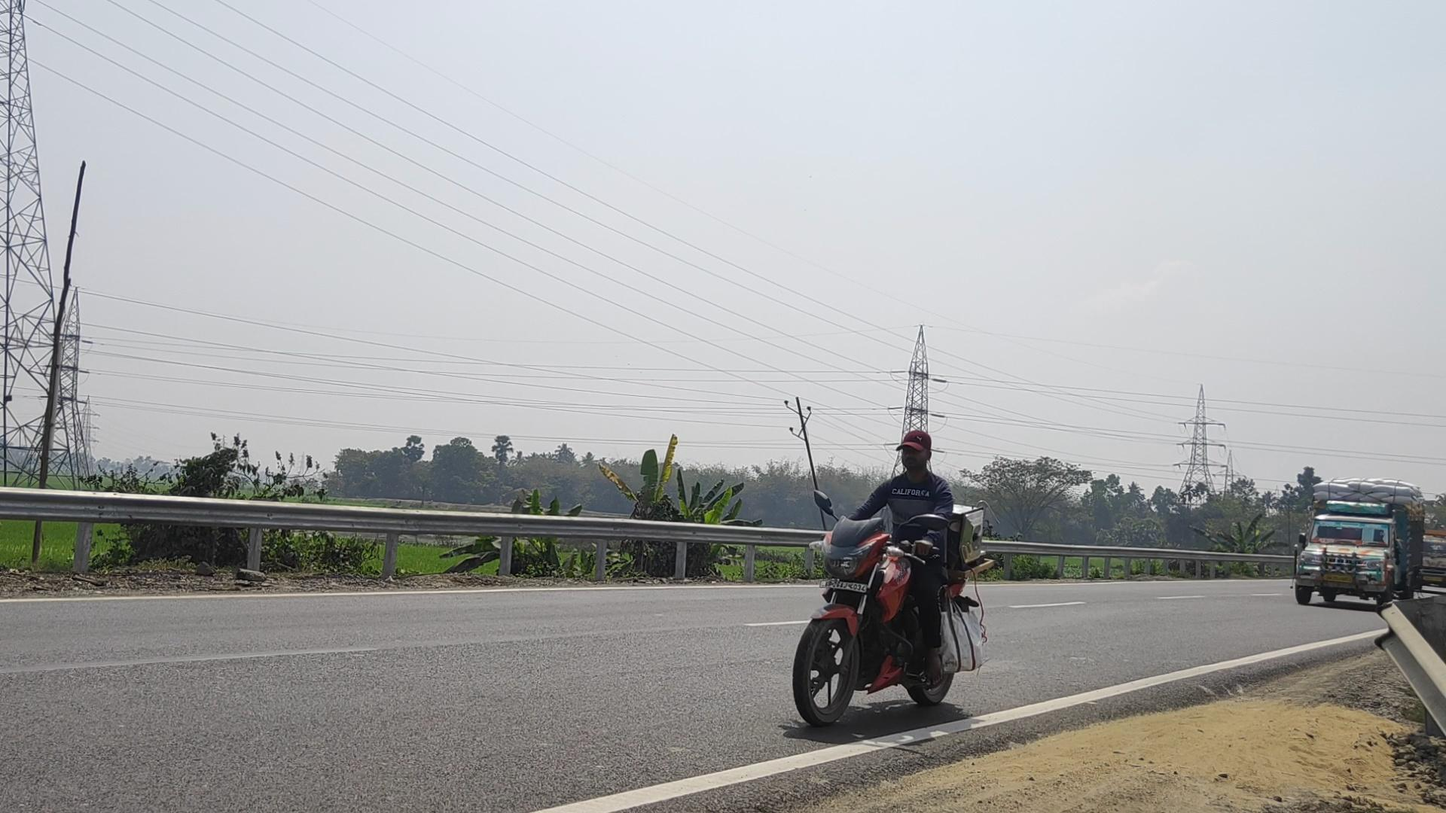bike: (791, 431, 994, 727)
van: (1292, 479, 1425, 611)
